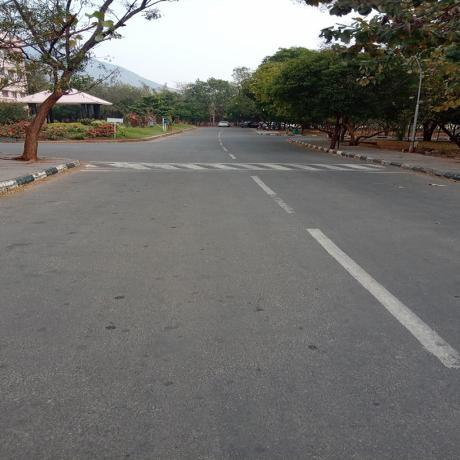Speed Bump: (76, 161, 394, 172)
